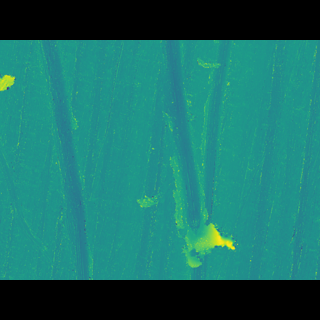Loch: (23, 69, 91, 251), (158, 69, 235, 210), (0, 140, 54, 237), (165, 205, 243, 243)
